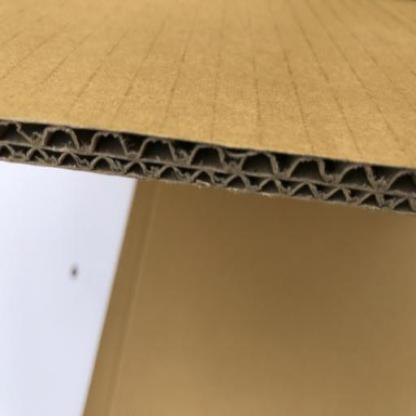CARDBOARD: (0, 0, 415, 415), (0, 0, 416, 215)
